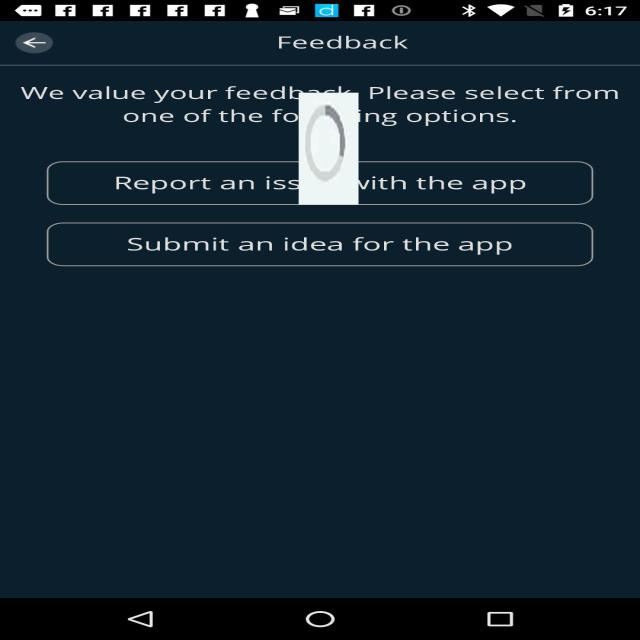misdirection: (298, 92, 358, 204)
